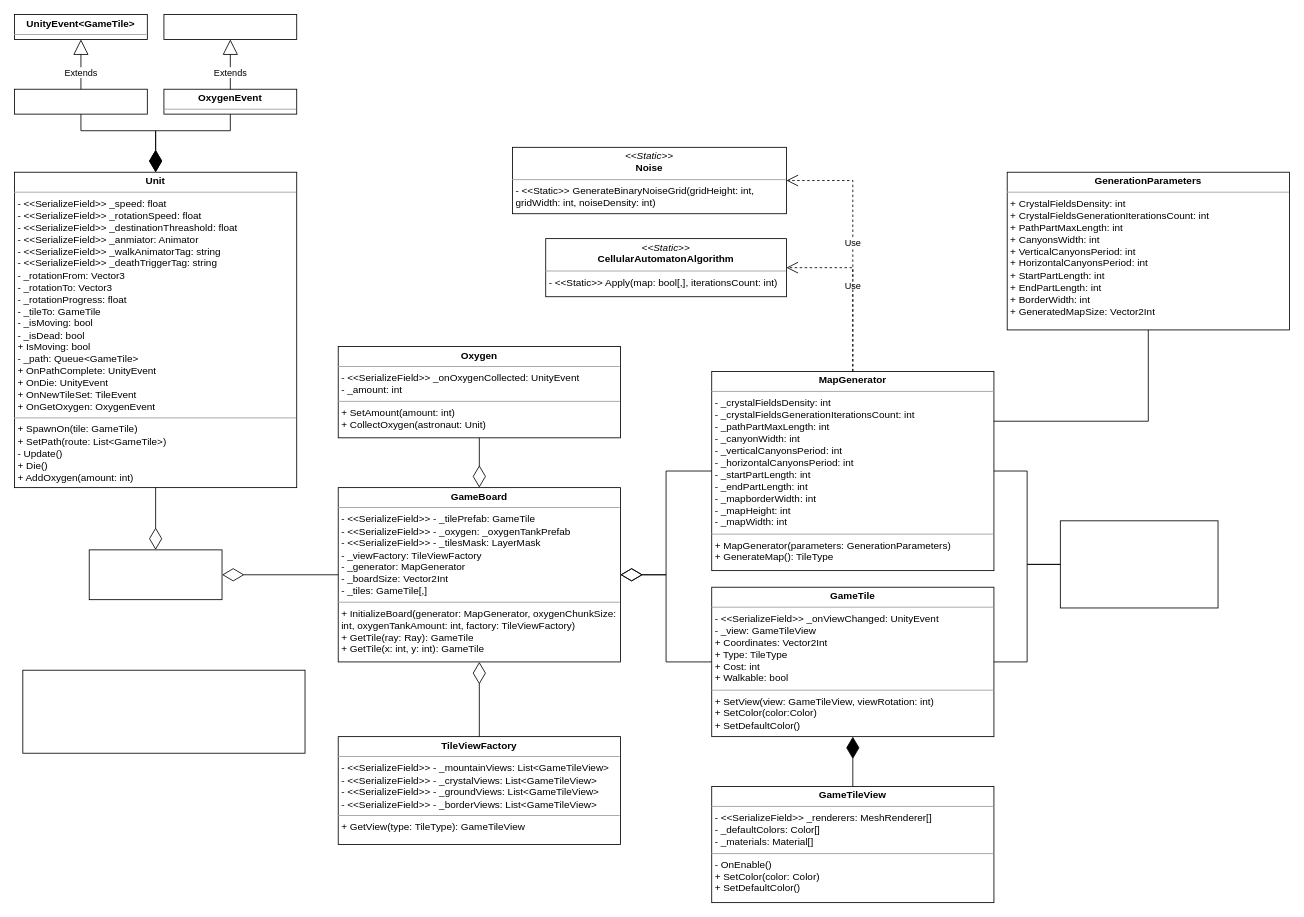
This 1304x917 diagram has some shape labels left out. Here are the shapes that lost their labels. From the top down, the centre of each, then its label:
At point (230, 26): "UnityEvent<int>".
At point (80, 101): "TileEvent".
At point (155, 574): "Game".
At point (1138, 564): "<<Enumeration>> TileType Border, Crystal, Mountain, Ground".
At point (163, 711): "Sandstorm - _speed: Vector3 + SetSpeed(speed: Vector3) + Update()".
